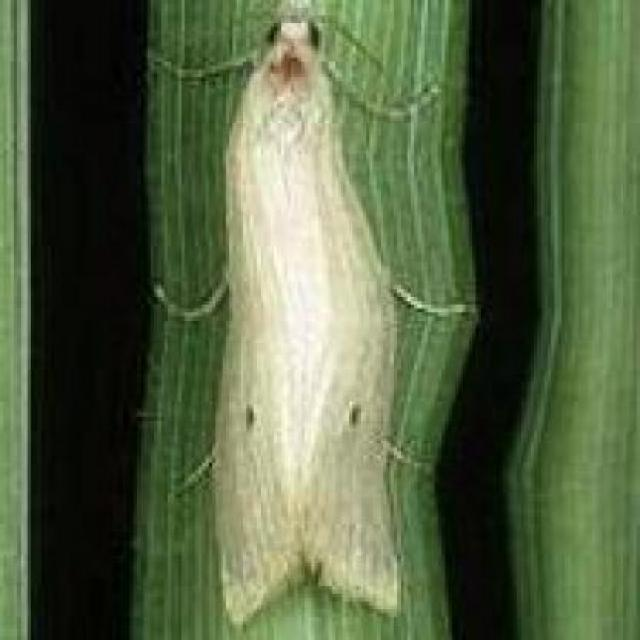stem-borer: (189, 0, 422, 640)
